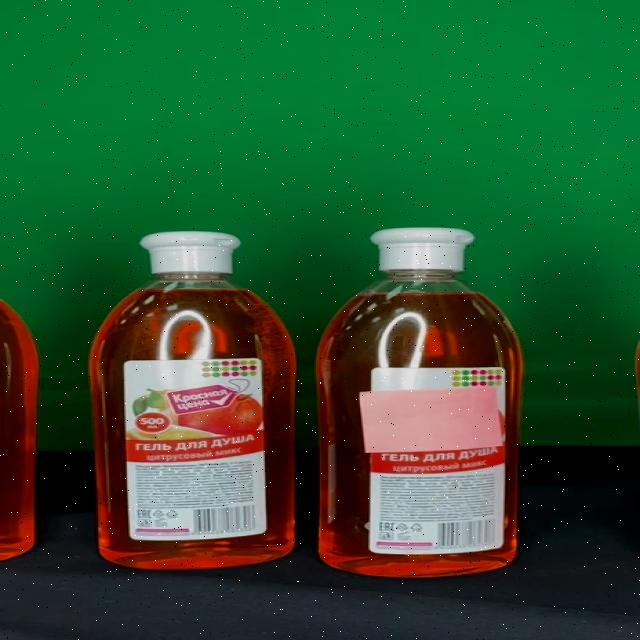Bottle: (315, 227, 523, 577), (88, 231, 296, 569)
Cap: (369, 228, 474, 270), (139, 232, 242, 274)
